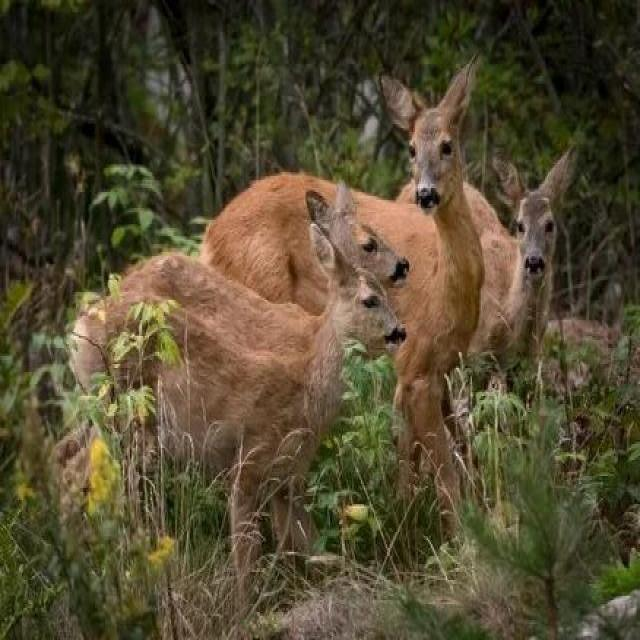deer: (214, 39, 477, 497), (58, 170, 367, 554), (379, 97, 564, 371), (205, 165, 422, 394)
